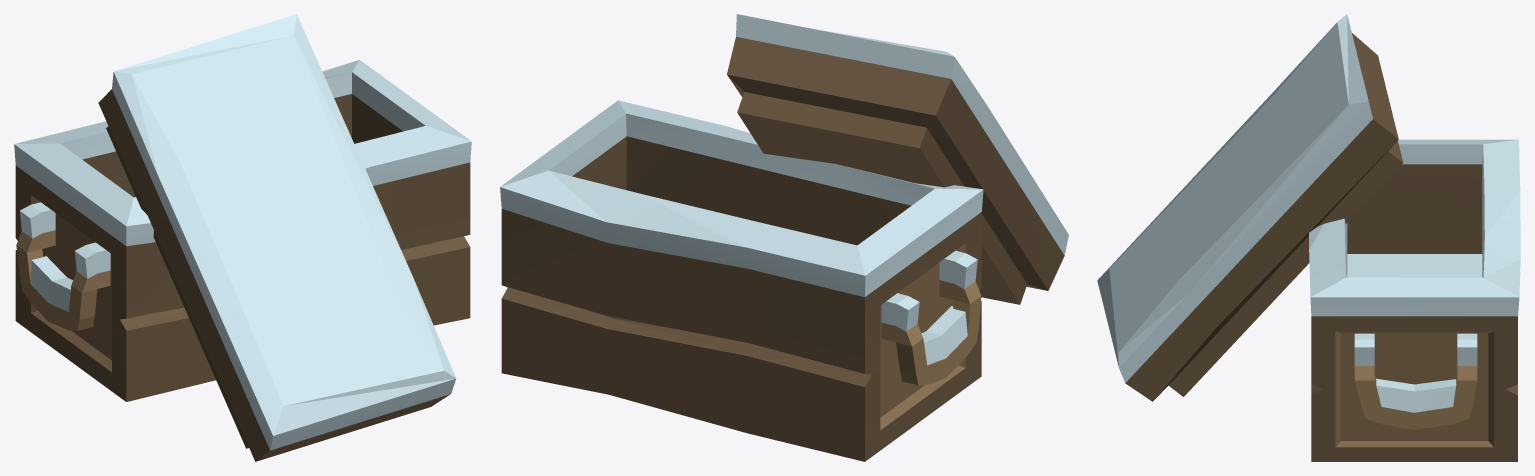
The model's file is Caja_Abierta.glb.
3 views of the same model, side by side, from view 1: azimuth 30°, elevation 25°; view 2: azimuth 150°, elevation 25°; view 3: azimuth 270°, elevation 25° (orthographic). The views are drawn at different scales.
Visible parts, largest first — view 1: SM_Prop_Crate_Open_01_Snow; view 2: SM_Prop_Crate_Open_01_Snow; view 3: SM_Prop_Crate_Open_01_Snow.
Boxes of the visible parts, x1,y1,x2,y2 form: SM_Prop_Crate_Open_01_Snow: (14,14,471,461); SM_Prop_Crate_Open_01_Snow: (500,14,1068,461); SM_Prop_Crate_Open_01_Snow: (1097,14,1520,461).
Bounding box in the file's own units: 1.33 × 1.03 × 1.34.
Materials: 1 (1 with a texture image).
